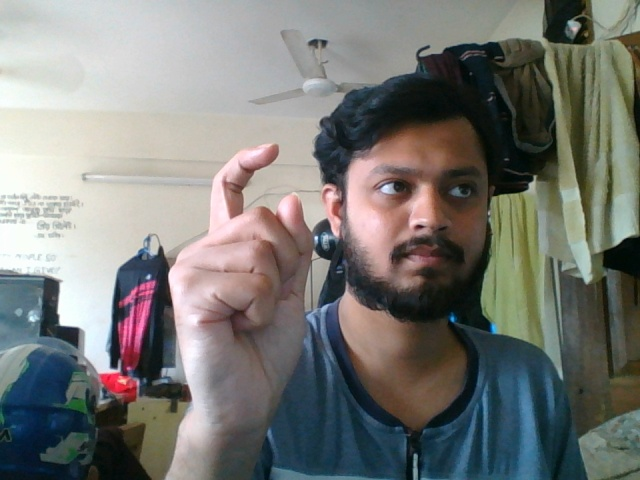e: (155, 137, 328, 455)
